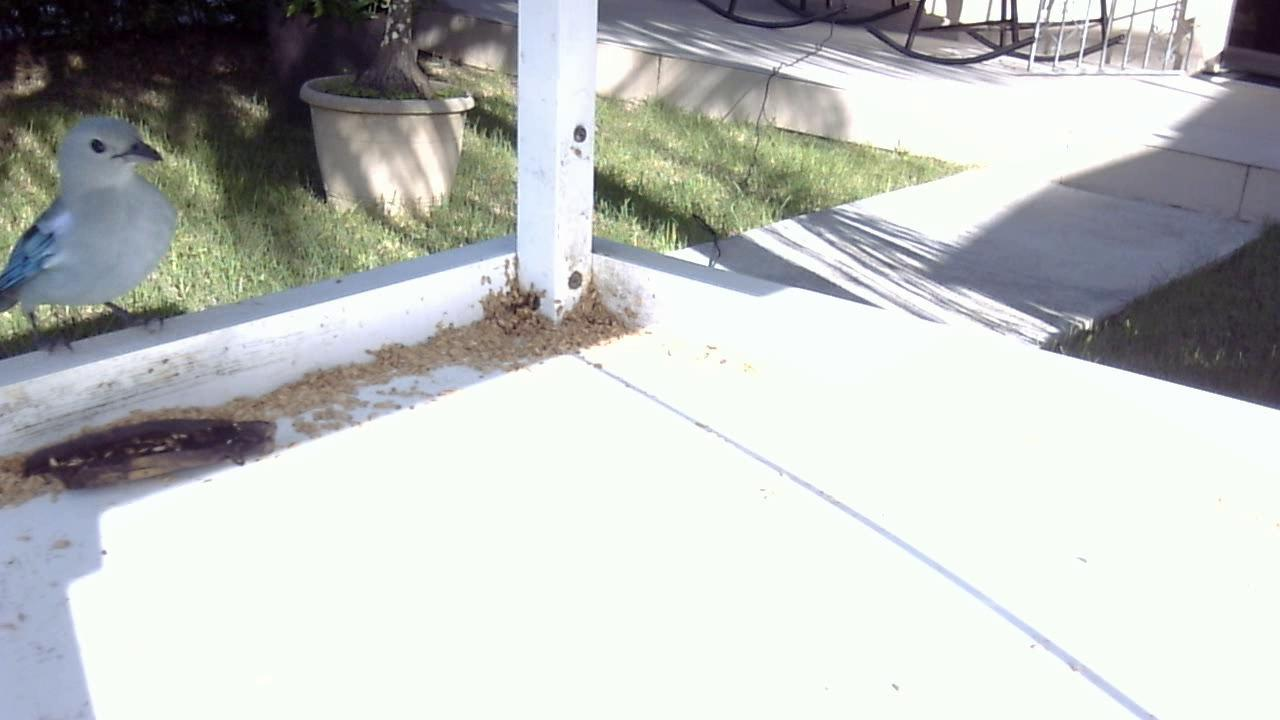sanhaco_da_amazonia: (1, 107, 184, 367)
